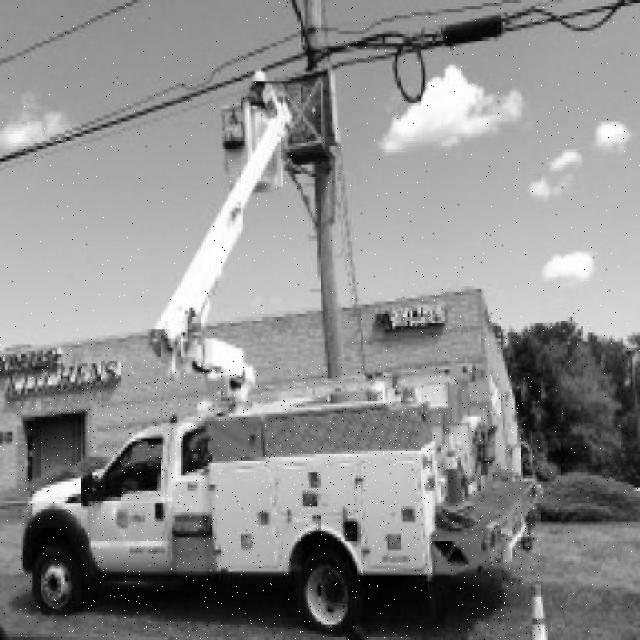Pickup- Utility: (21, 366, 540, 640)
